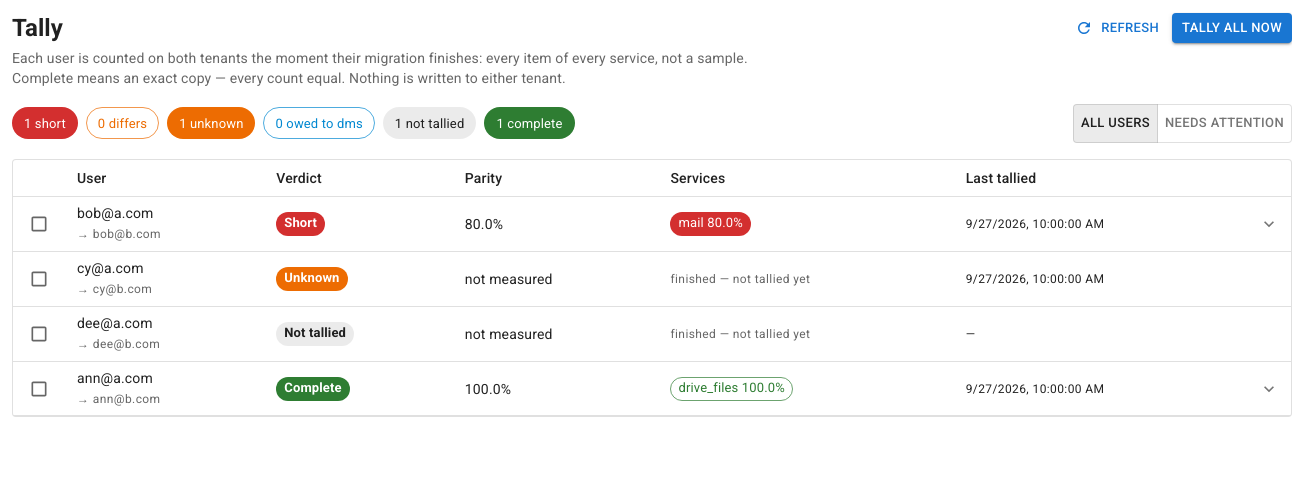
it: what is found › opens a user to show which service came up short and by how much
Click the button named "show bob@a.com" at (1269, 224), box [1259,214,1279,234]
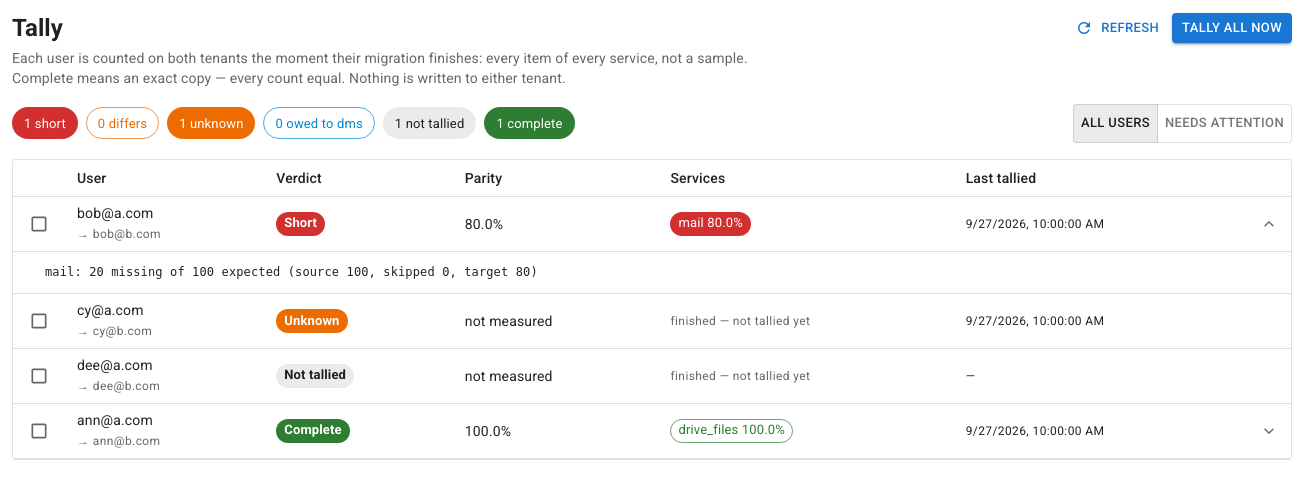
Result: the text "mail: 20 missing of 100 expected" is shown at [45,265,538,279]
